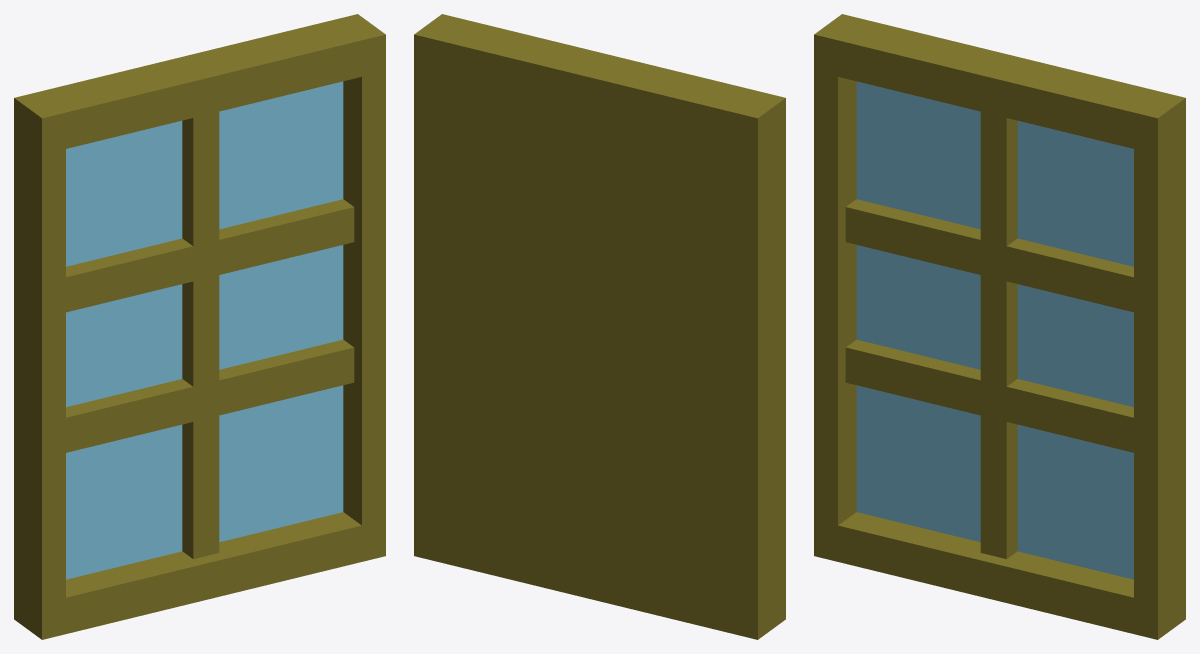
The model's file is Window.fbx.
3 views of the same model, side by side, from view 1: azimuth 30°, elevation 25°; view 2: azimuth 150°, elevation 25°; view 3: azimuth 330°, elevation 25° (orthographic).
Parts seen in each view (by area): view 1: Window; view 2: Window; view 3: Window.
Boxes of the visible parts, x1,y1,x2,y2 form: Window: [14, 14, 385, 639]; Window: [414, 14, 785, 639]; Window: [814, 14, 1185, 639].
Size of the model in its own units: 138 by 200 by 19.49.
